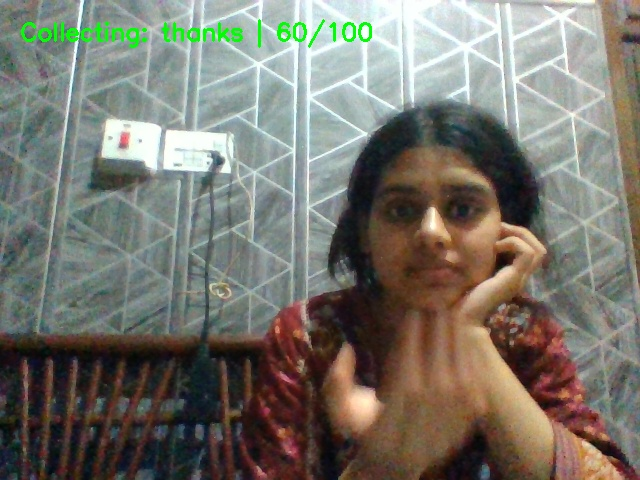thanks: (313, 293, 545, 480)
